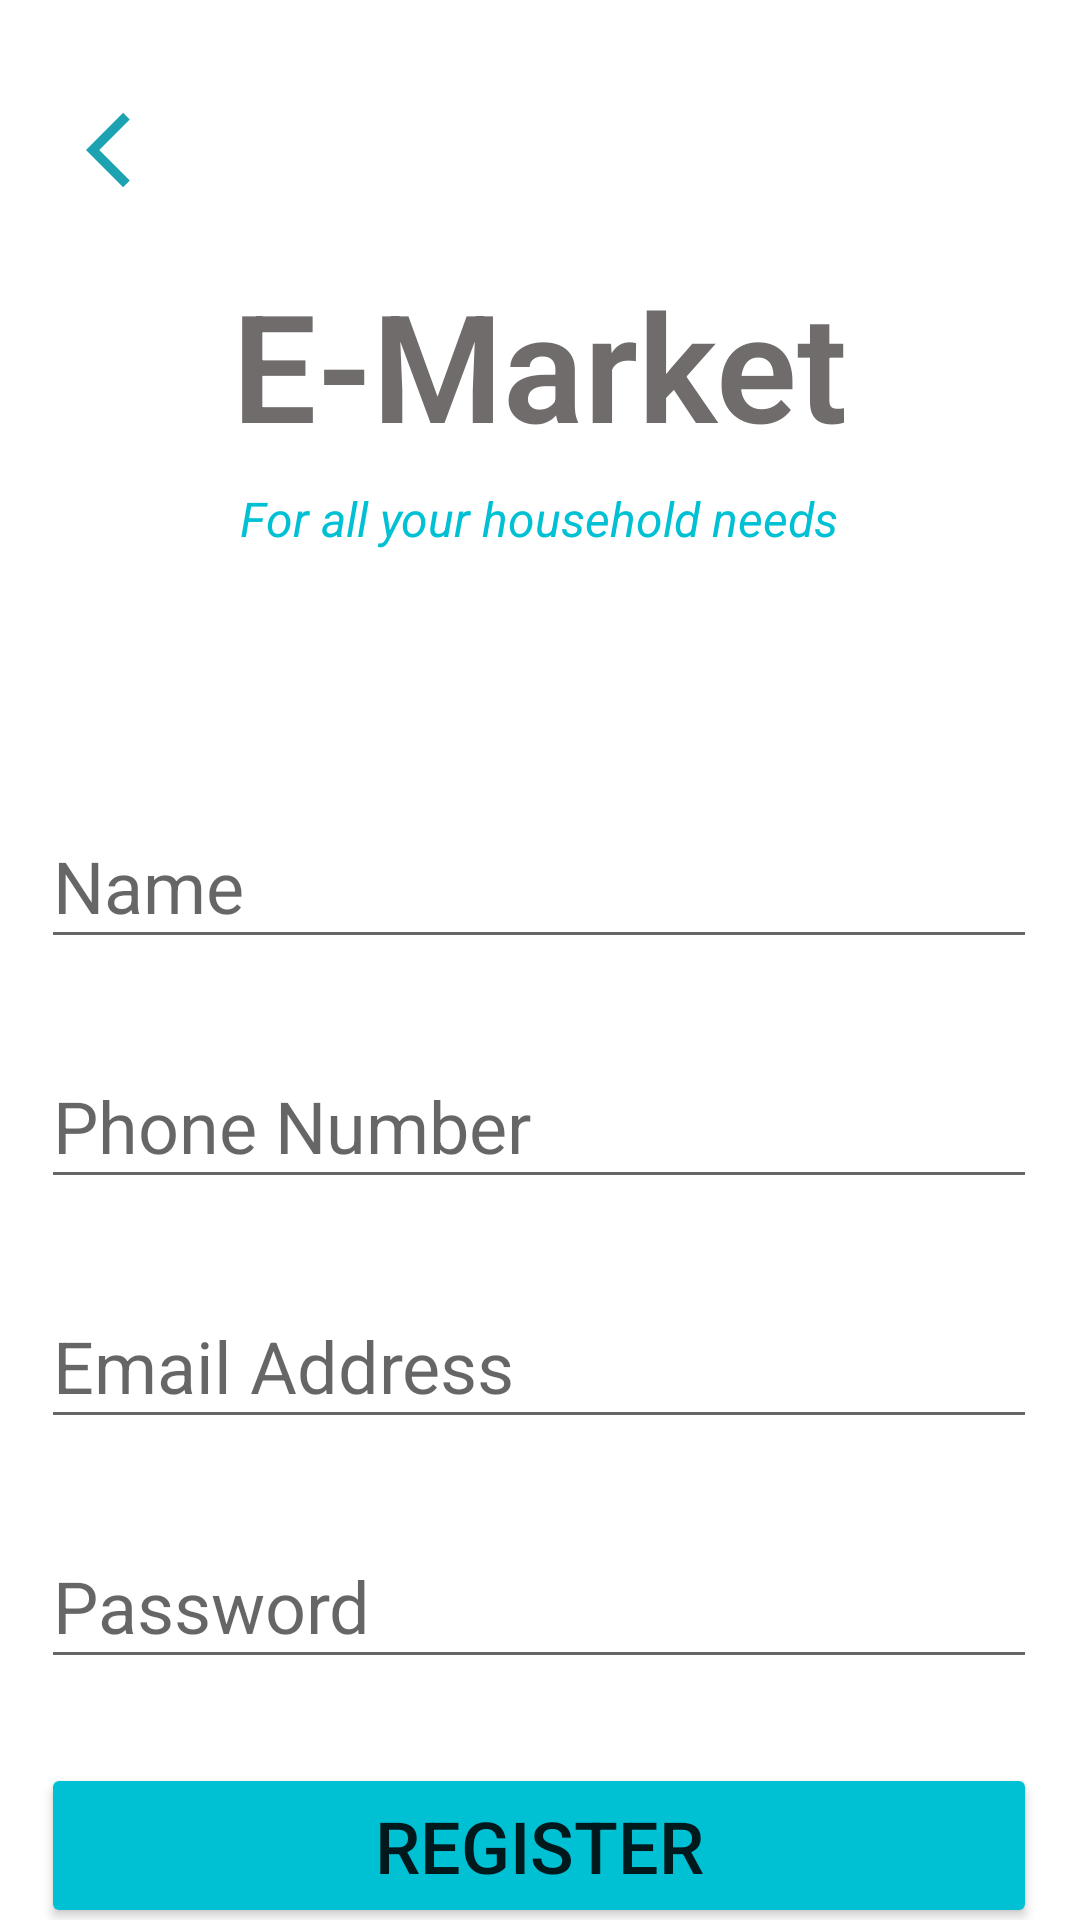

Icons on this 1080*1920 Android screen, each with the point to tap as point (x, y):
back arrow: point (108, 150)
